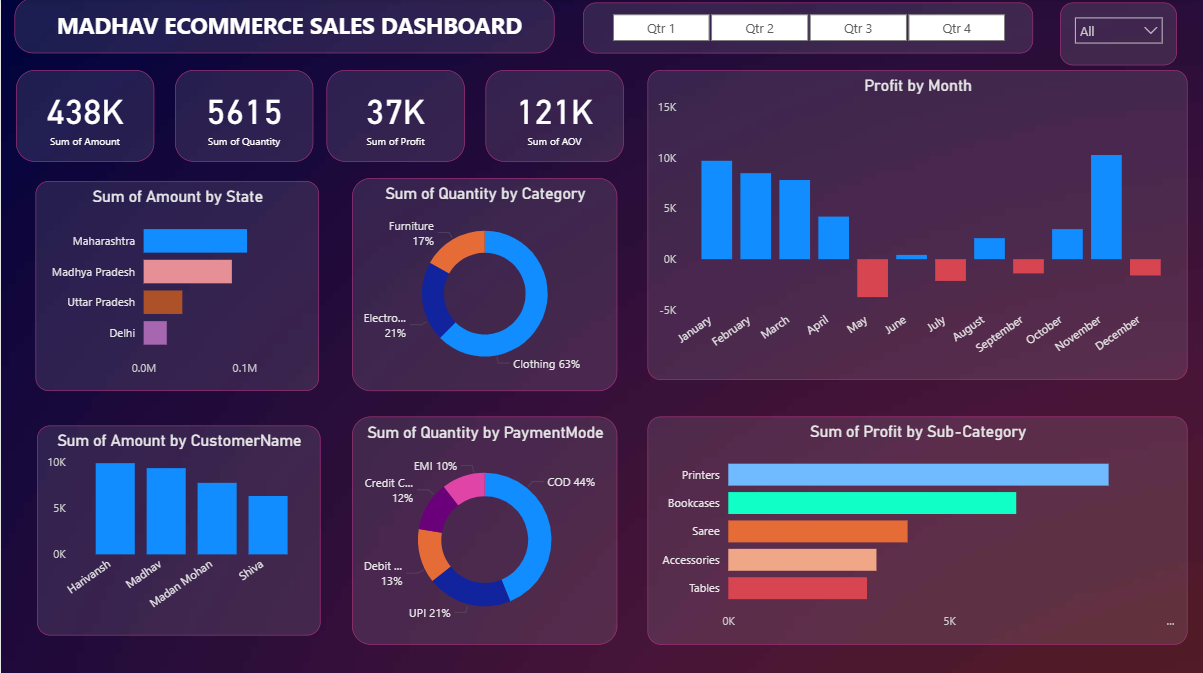

What the dashboard file says about the page in this screenshot:
{"tool":"powerbi","page":{"name":"Page 1","canvas":[1280,720],"ordinal":0},"visuals":[{"type":"textbox","box":[14.3,0,572.6,58.9],"z":0},{"type":"columnChart","title":"Profit by Month","fields":{"Y":["Details.Profit"],"Category":["Orders.Order Date.Variation.Date Hierarchy.Month"]},"box":[686,75.6,572.6,328.8],"z":1000},{"type":"barChart","fields":{"Category":["Details.Sub-Category"],"Y":["Details.Profit"]},"box":[686,444.1,572.6,241.9],"z":2000},{"type":"donutChart","fields":{"Category":["Details.Category"],"Y":["Details.Quantity"]},"box":[372.2,190.9,281.5,225.9],"z":3000},{"type":"donutChart","fields":{"Y":["Details.Quantity"],"Category":["Details.PaymentMode"]},"box":[372.2,443.8,281.5,241.8],"z":4000},{"type":"card","fields":{"Values":["Details.Amount"]},"box":[15.9,76.3,146.3,97],"z":5000},{"type":"card","fields":{"Values":["Details.Quantity"]},"box":[184.5,76.3,146.3,97],"z":6000},{"type":"card","fields":{"Values":["Details.Profit"]},"box":[345.2,76.3,146.3,97],"z":7000},{"type":"card","fields":{"Values":["Details.AOV"]},"box":[513.8,76.3,146.3,97],"z":8000},{"type":"barChart","fields":{"Category":["Orders.State"],"Y":["Details.Amount"]},"box":[35.9,194.6,300.5,223],"z":9000},{"type":"columnChart","fields":{"Category":["Orders.CustomerName"],"Y":["Details.Amount"]},"box":[37.8,453.5,300.5,223],"z":10000},{"type":"slicer","fields":{"Values":["Orders.Order Date.Variation.Date Hierarchy.Quarter"]},"box":[617.2,4.8,477.2,54.1],"z":11000},{"type":"slicer","fields":{"Values":["Orders.State"]},"box":[1123,4.8,124.1,66.8],"z":12000}]}

Visuals, with their boxes in screenshot pixels (x1, y1, x2, y2), scaled from the page's 1280x720 canvas onto the 1203x673 screenshot:
textbox: select_region(13, 0, 552, 55)
"Profit by Month" columnChart: select_region(645, 71, 1183, 378)
barChart - Details.Sub-Category x Details.Profit: select_region(645, 415, 1183, 641)
donutChart - Details.Category x Details.Quantity: select_region(350, 178, 614, 390)
donutChart - Details.Quantity x Details.PaymentMode: select_region(350, 415, 614, 641)
card - Details.Amount: select_region(15, 71, 152, 162)
card - Details.Quantity: select_region(173, 71, 311, 162)
card - Details.Profit: select_region(324, 71, 462, 162)
card - Details.AOV: select_region(483, 71, 620, 162)
barChart - Orders.State x Details.Amount: select_region(34, 182, 316, 390)
columnChart - Orders.CustomerName x Details.Amount: select_region(36, 424, 318, 632)
slicer - Orders.Order Date.Variation.Date Hierarchy.Quarter: select_region(580, 4, 1029, 55)
slicer - Orders.State: select_region(1055, 4, 1172, 67)
